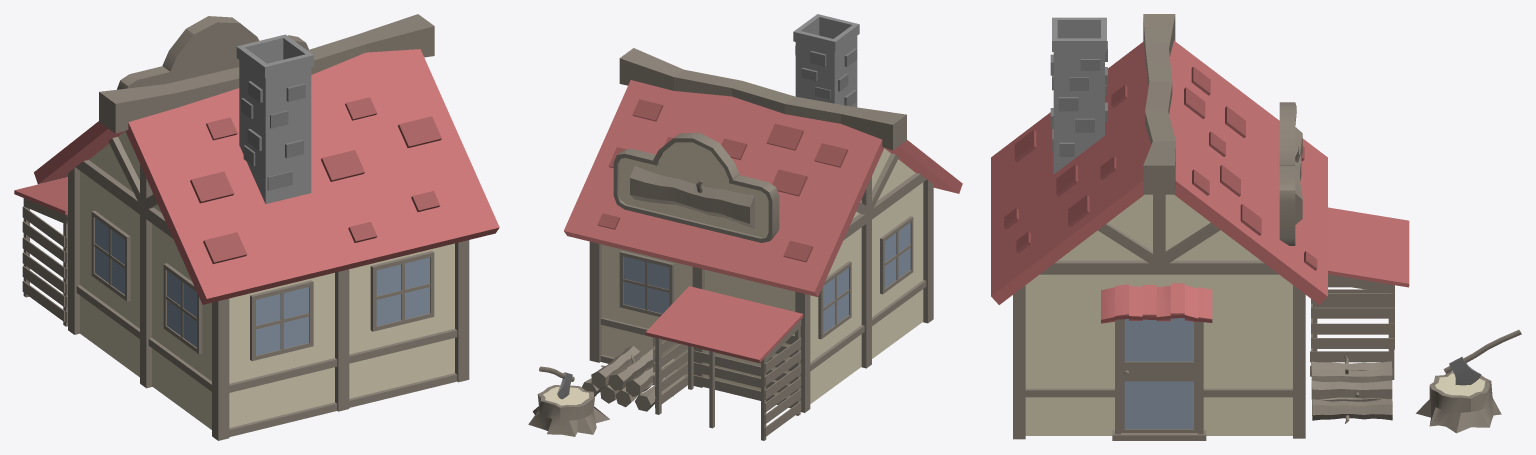
File: House.fbx
3 views of the same model, side by side, from view 1: azimuth 30°, elevation 25°; view 2: azimuth 150°, elevation 25°; view 3: azimuth 270°, elevation 25° (orthographic). The views are drawn at different scales.
Parts seen in each view (by area): view 1: pCube4, house1, pCube37, pCube50, pCube36, pCube58, pCube68, pCube71, pCube55, pCube76, pCube78, pCube5 (+29 smaller); view 2: pCube5, house1, pCube36, pCube23, pCube50, pCube37, pCylinder46, axe, pCube78, pCube56, pCube58, pCube4 (+25 smaller); view 3: house1, pCube5, pCube4, pCube37, pCube23, pCube50, polySurface1, pCube49, polySurface2, axe, pCube40, polySurface3 (+19 smaller).
Part boxes in pixels (left/top/right/bottom): pCube4: left=125, top=49, right=499, bottom=304; house1: left=80, top=131, right=454, bottom=429; pCube37: left=236, top=34, right=313, bottom=203; pCube50: left=99, top=14, right=434, bottom=133; pCube36: left=117, top=16, right=308, bottom=89; pCube58: left=212, top=298, right=229, bottom=440; pCube68: left=229, top=329, right=457, bottom=392; pCube71: left=229, top=373, right=457, bottom=436; pCube55: left=455, top=240, right=469, bottom=382; pCube76: left=335, top=269, right=349, bottom=411; pCube78: left=140, top=215, right=152, bottom=388; pCube5: left=34, top=121, right=124, bottom=184; pCube5: left=564, top=80, right=884, bottom=296; house1: left=602, top=148, right=923, bottom=403; pCube36: left=613, top=132, right=779, bottom=242; pCube23: left=645, top=286, right=803, bottom=362; pCube50: left=619, top=48, right=906, bottom=150; pCube37: left=793, top=14, right=859, bottom=107; pCylinder46: left=630, top=166, right=754, bottom=228; axe: left=528, top=385, right=609, bottom=436; pCube78: left=861, top=219, right=871, bottom=368; pCube56: left=589, top=241, right=601, bottom=362; pCube58: left=923, top=179, right=933, bottom=323; pCube4: left=884, top=140, right=962, bottom=193; house1: left=1025, top=194, right=1292, bottom=435; pCube5: left=1169, top=40, right=1327, bottom=304; pCube4: left=991, top=41, right=1151, bottom=304; pCube37: left=1052, top=17, right=1106, bottom=174; pCube23: left=1328, top=207, right=1409, bottom=287; pCube50: left=1143, top=14, right=1175, bottom=194; polySurface1: left=1112, top=319, right=1206, bottom=440; pCube49: left=1101, top=283, right=1212, bottom=323; polySurface2: left=1124, top=381, right=1193, bottom=428; axe: left=1416, top=371, right=1501, bottom=433; pCube40: left=1040, top=260, right=1278, bottom=274; polySurface3: left=1124, top=318, right=1193, bottom=361.
Bounding box in the file's own units: 339 × 349 × 502.
